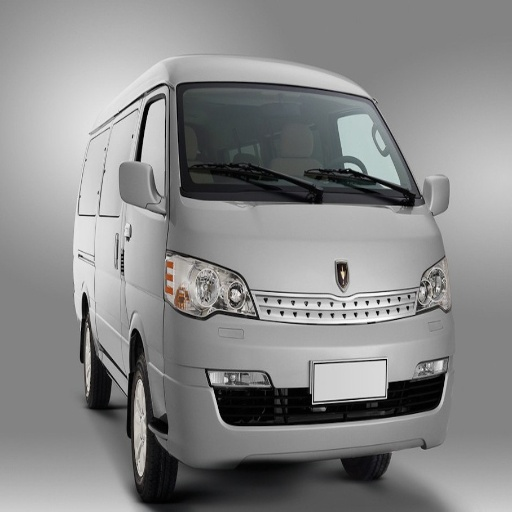front_bumper: (148, 287, 453, 467)
front_left_light: (416, 261, 449, 312)
front_right_door: (100, 91, 167, 367)
front_right_light: (165, 252, 255, 318)
hood: (181, 198, 442, 297)
